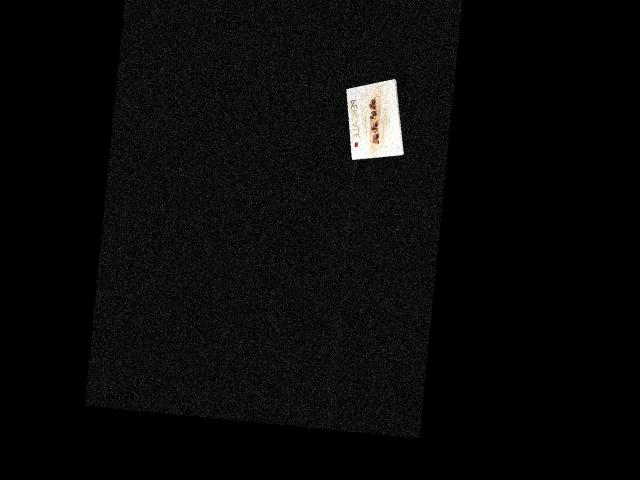chocolate: (340, 78, 413, 162)
